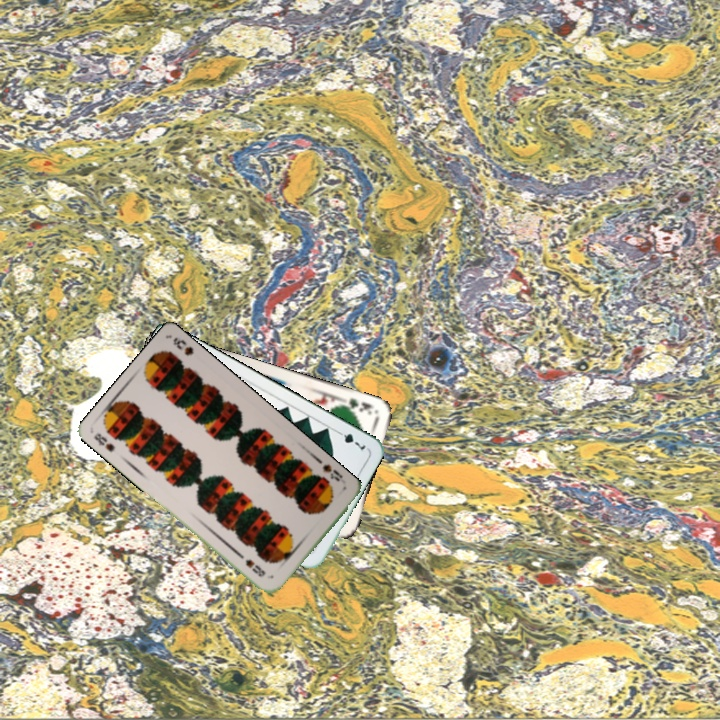G7: (332, 426, 368, 455)
GK: (339, 394, 375, 418)
S8: (90, 429, 118, 454), (318, 460, 345, 484)
